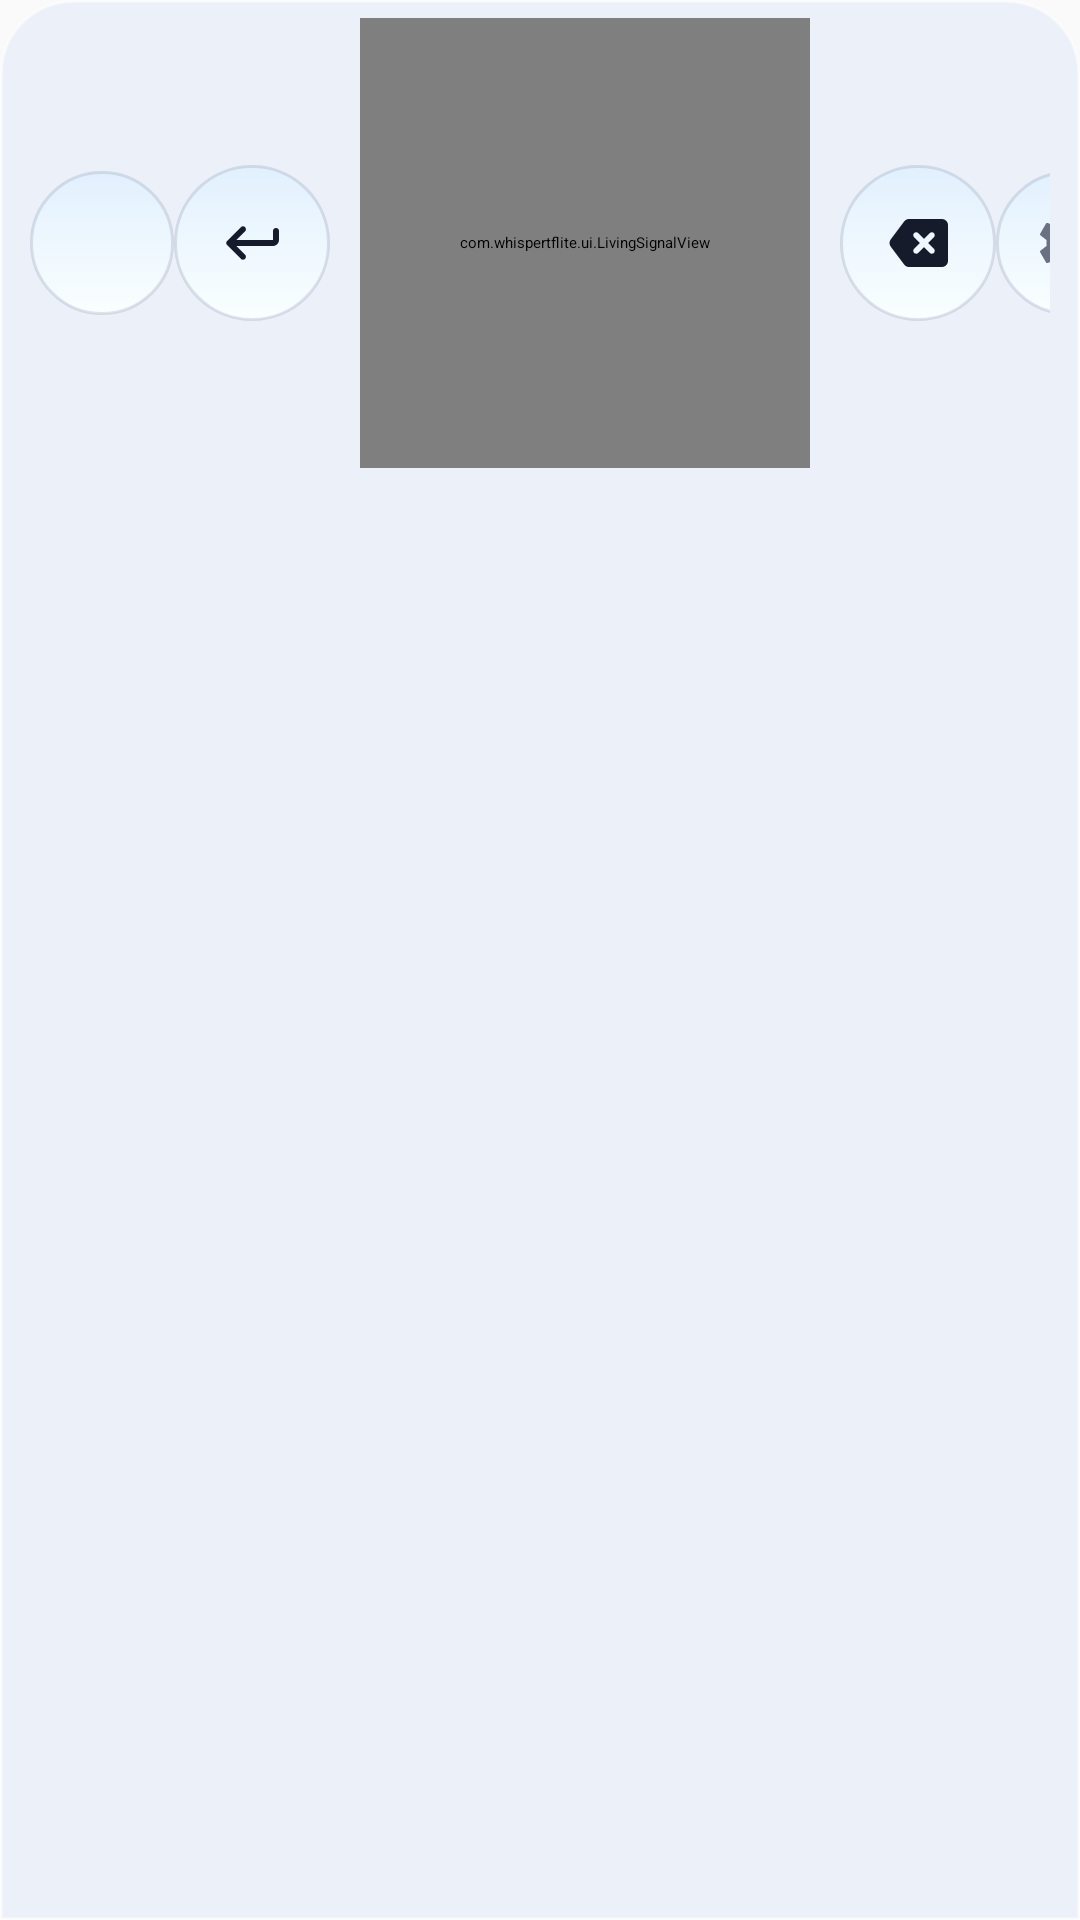

Screen size 1080px×1920px. Icon name, then its box in pixels as (x1, y1, x2, y2):
Delete: (840, 165, 996, 321)
Return: (174, 165, 330, 321)
